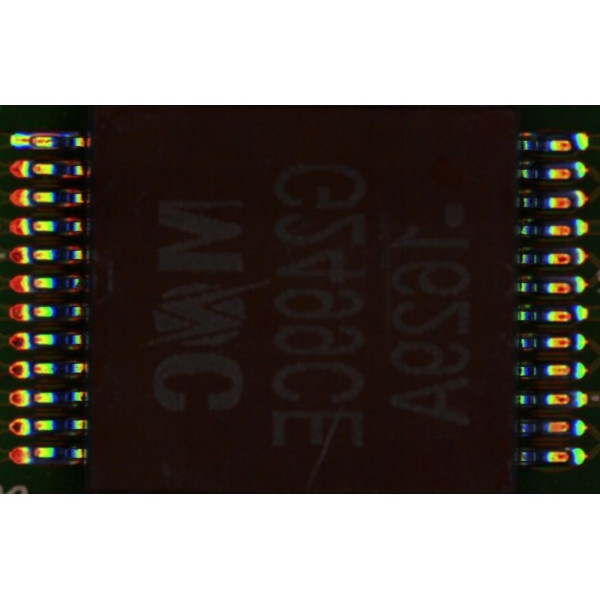Bad_podu: (20, 136, 36, 145)
Bad_qiaojiao: (33, 132, 75, 137)
